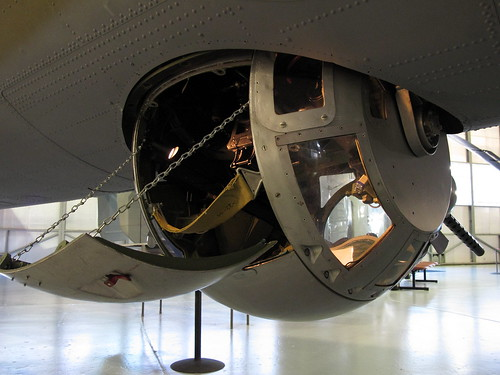weapon: (95, 63, 491, 342)
